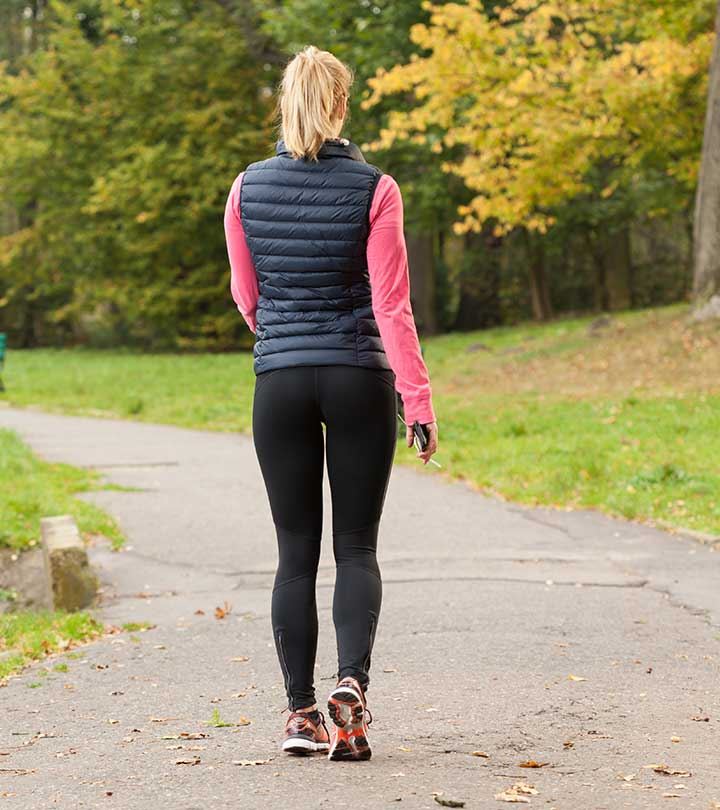feet: (250, 641, 385, 776)
